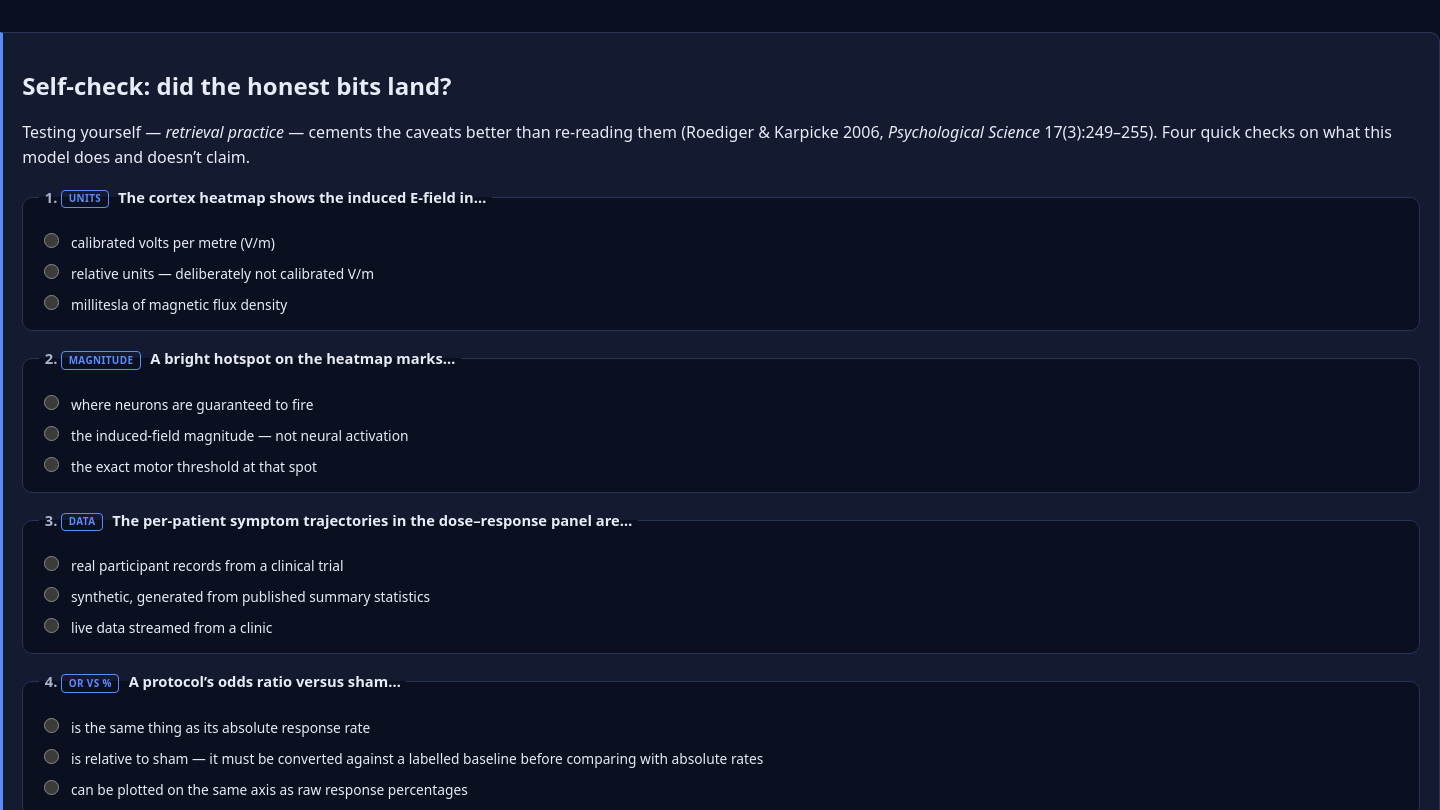
SelfCheckQuiz (#21 — retrieval practice on the honesty gates) › disables "Check answers" until every question is answered
Click the radio button labelled "relative units — deliberately not calibrated V/m" at x=52, y=272, box 44,264 -> 59,279
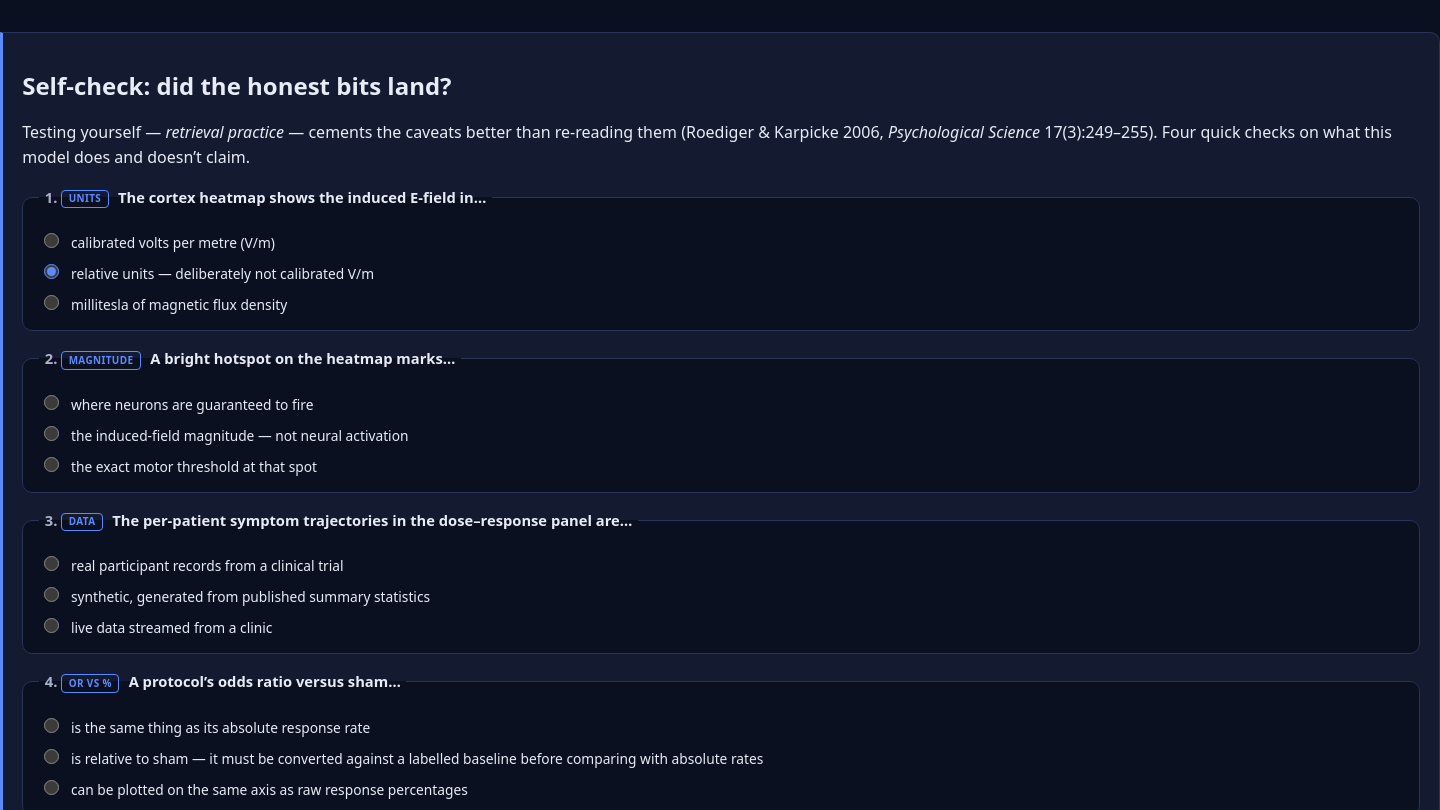
Click the radio button labelled "the induced-field magnitude — not neural activation" at x=52, y=433, box 44,426 -> 59,441
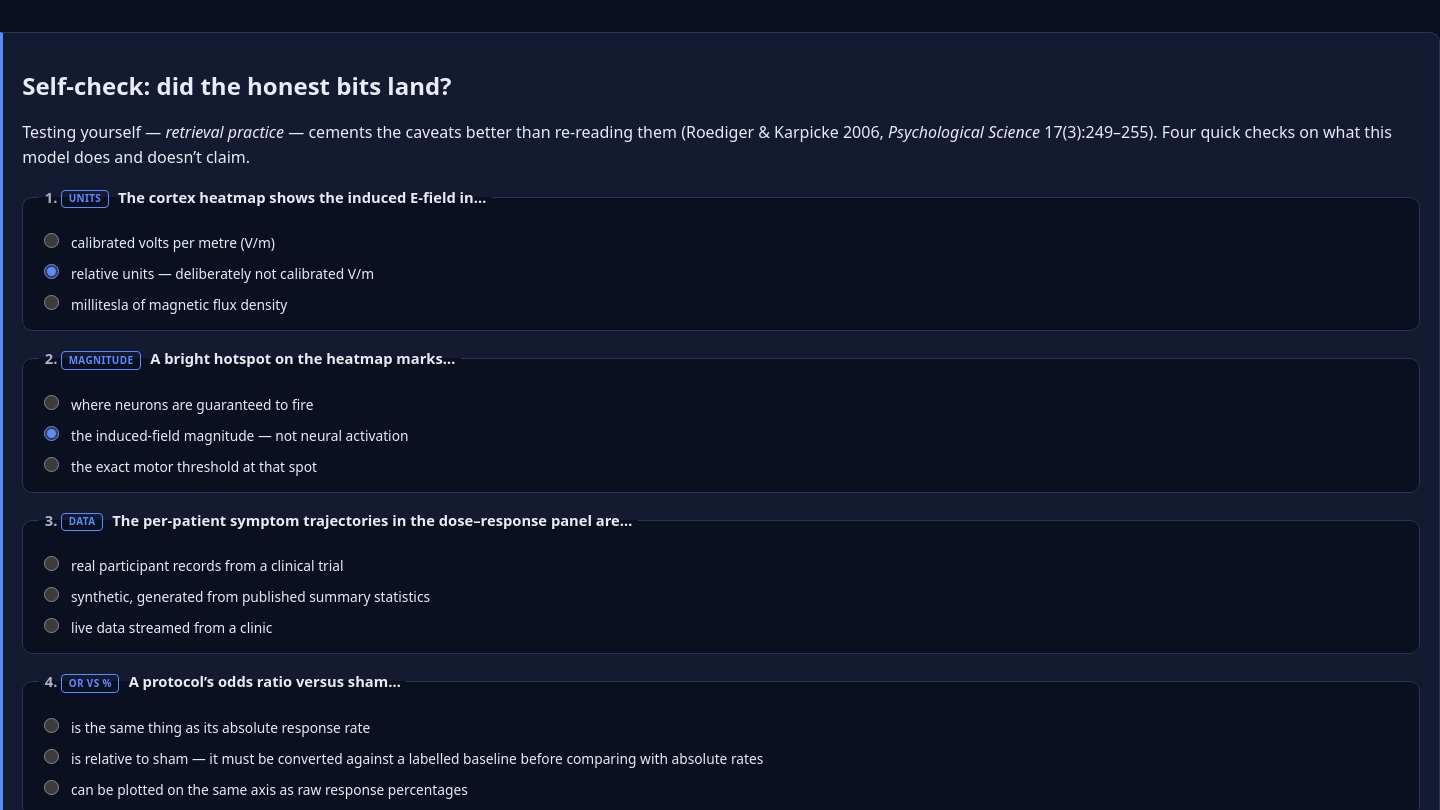
Click the radio button labelled "synthetic, generated from published summary statistics" at x=52, y=595, box 44,587 -> 59,602
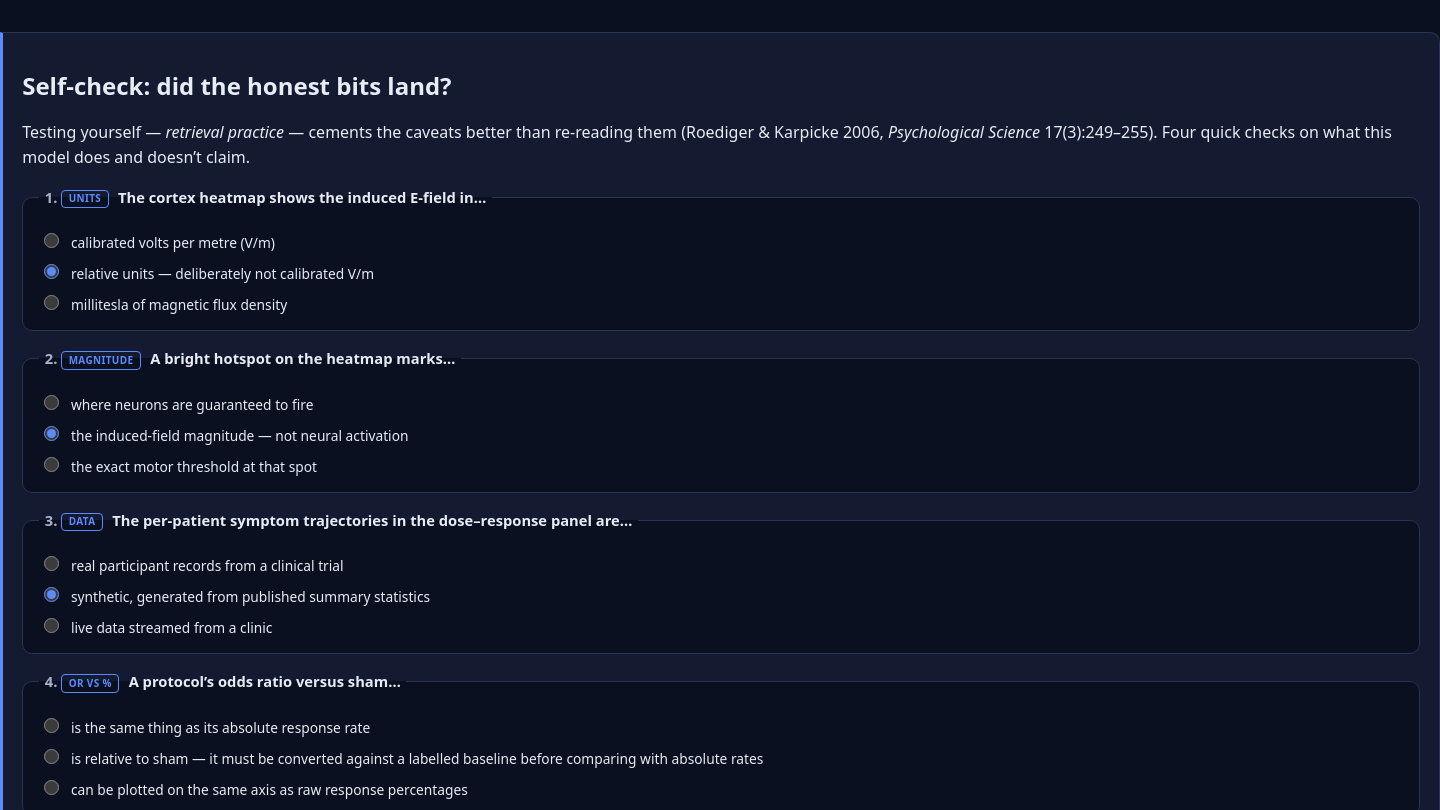
Click the radio button labelled "relative to sham" at x=52, y=756, box 44,749 -> 59,764
(page scrolled)
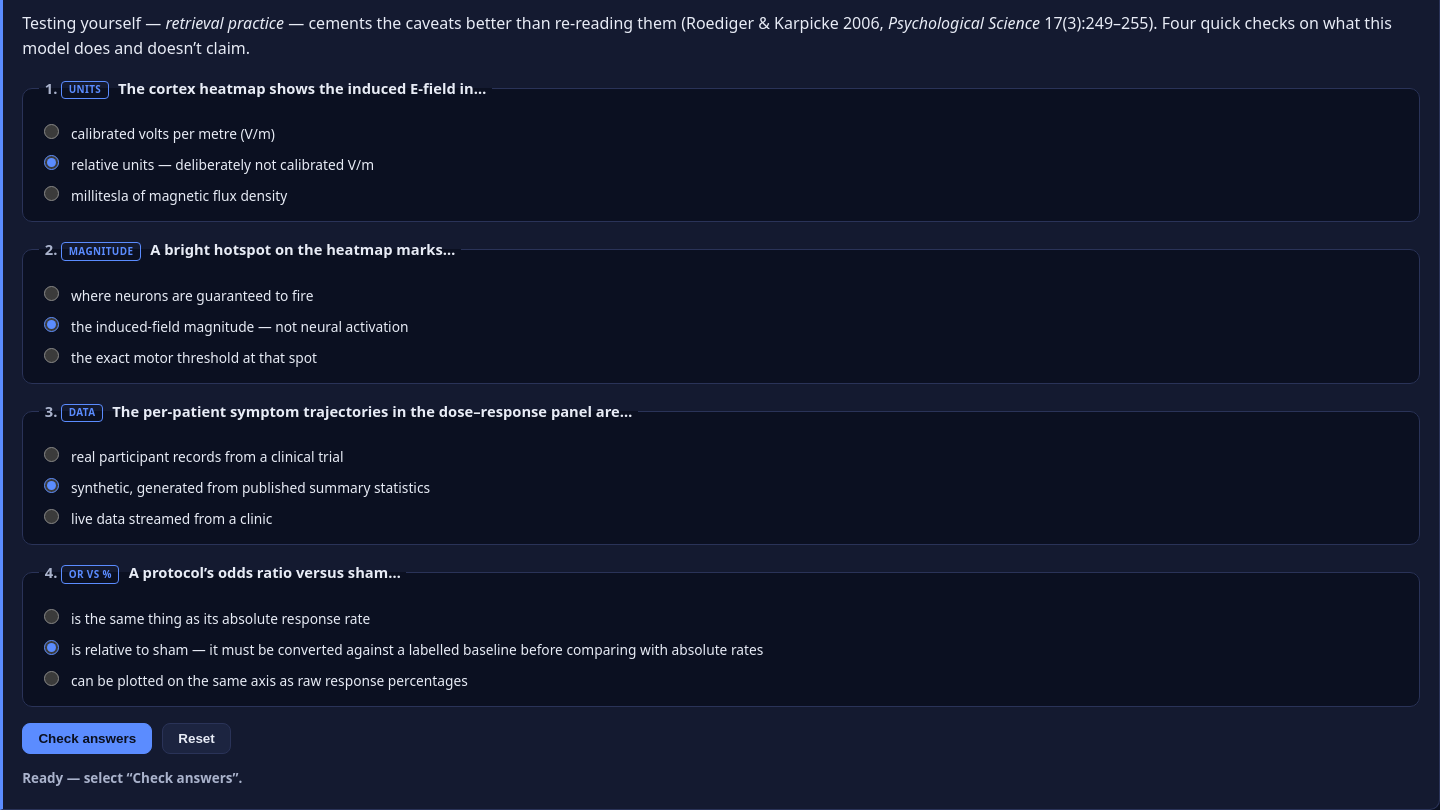
Expected: the button "Check answers" is enabled, 22,723 -> 152,754
